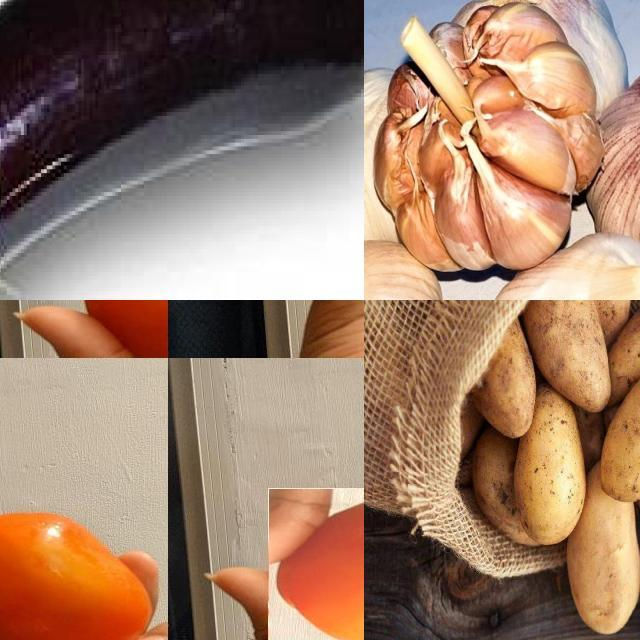eggplant: (1, 1, 365, 301)
garlic: (375, 7, 605, 274), (579, 46, 640, 278), (365, 65, 440, 250)
potato: (570, 472, 640, 634), (474, 428, 566, 550), (533, 301, 614, 413), (472, 311, 540, 441), (523, 396, 581, 546), (598, 370, 640, 498), (614, 301, 640, 388)
tomato: (269, 489, 365, 640)
